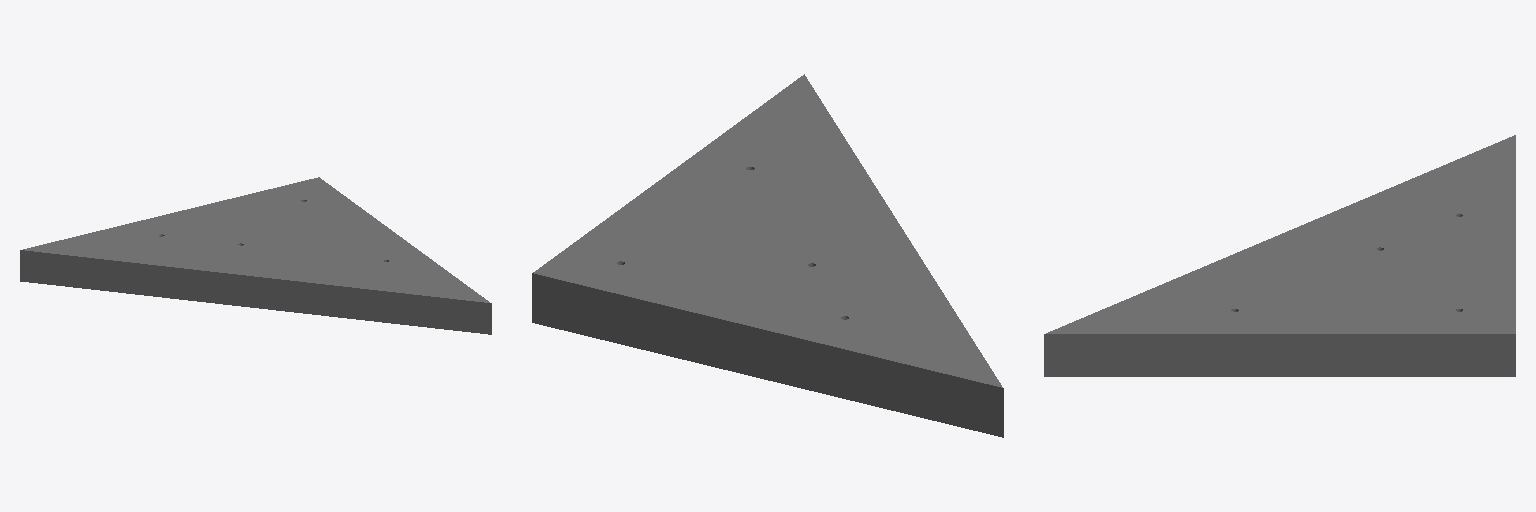
URDF robot description (push_object):
<?xml version="1.0" ?>
<robot name="push_object">
  <link name="link_x">
    <inertial>
      <mass value="0"/>
      <inertia ixx="1.0" ixy="0.0" ixz="0.0" iyy="1.0" iyz="0.0" izz="1.0"/>
    </inertial>
  </link>

  <link name="link_y">
    <inertial>
      <mass value="0"/>
      <inertia ixx="1.0" ixy="0.0" ixz="0.0" iyy="1.0" iyz="0.0" izz="1.0"/>
    </inertial>
  </link>
  
  <link name="link_z">
    <inertial>
      <mass value="0"/>
      <inertia ixx="1.0" ixy="0.0" ixz="0.0" iyy="1.0" iyz="0.0" izz="1.0"/>
    </inertial>
  </link>
  
  <link name="link_yaw">
    <inertial>
      <mass value="0"/>
      <inertia ixx="1.0" ixy="0.0" ixz="0.0" iyy="1.0" iyz="0.0" izz="1.0"/>
    </inertial>
  </link>

  <link name="link_object">
    <contact>
      <rolling_friction value="0.03"/>
      <spinning_friction value="0.03"/>
    </contact>

    <inertial>
      <origin rpy="0 0 0" xyz="0 0 0"/>
       <mass value="0.006350"/>
       <inertia ixx="1" ixy="0" ixz="0" iyy="1" iyz="0" izz="0.803000"/>
    </inertial>
    <visual>
      <origin rpy="0 0 0" xyz="0 0 0.001410"/>
      <geometry>
        <mesh filename="tri1.obj" scale="1.0 1.0 1.0"/>      
      </geometry>
      <material name="gray">
        <color rgba="0.5 0.5 0.5 1"/>
        <specular rgb="1 1 1"/>
      </material>
    </visual>
    
    <collision>
      <origin rpy="0 0 0" xyz="-0.0700 0.0400 -0.0063"/>
      <geometry>
        <sphere radius="0.0065"/>
      </geometry>
    </collision>
        
    <collision>
      <origin rpy="0 0 0" xyz="-0.0600 0.0300 -0.0063"/>
      <geometry>
        <sphere radius="0.0065"/>
      </geometry>
    </collision>
        
    <collision>
      <origin rpy="0 0 0" xyz="-0.0600 0.0400 -0.0063"/>
      <geometry>
        <sphere radius="0.0065"/>
      </geometry>
    </collision>
        
    <collision>
      <origin rpy="0 0 0" xyz="-0.0500 0.0200 -0.0063"/>
      <geometry>
        <sphere radius="0.0065"/>
      </geometry>
    </collision>
        
    <collision>
      <origin rpy="0 0 0" xyz="-0.0500 0.0300 -0.0063"/>
      <geometry>
        <sphere radius="0.0065"/>
      </geometry>
    </collision>
        
    <collision>
      <origin rpy="0 0 0" xyz="-0.0500 0.0400 -0.0063"/>
      <geometry>
        <sphere radius="0.0065"/>
      </geometry>
    </collision>
        
    <collision>
      <origin rpy="0 0 0" xyz="-0.0400 0.0100 -0.0063"/>
      <geometry>
        <sphere radius="0.0065"/>
      </geometry>
    </collision>
        
    <collision>
      <origin rpy="0 0 0" xyz="-0.0400 0.0200 -0.0063"/>
      <geometry>
        <sphere radius="0.0065"/>
      </geometry>
    </collision>
        
    <collision>
      <origin rpy="0 0 0" xyz="-0.0400 0.0300 -0.0063"/>
      <geometry>
        <sphere radius="0.0065"/>
      </geometry>
    </collision>
        
    <collision>
      <origin rpy="0 0 0" xyz="-0.0400 0.0400 -0.0063"/>
      <geometry>
        <sphere radius="0.0065"/>
      </geometry>
    </collision>
        
    <collision>
      <origin rpy="0 0 0" xyz="-0.0300 -0.0000 -0.0063"/>
      <geometry>
        <sphere radius="0.0065"/>
      </geometry>
    </collision>
        
    <collision>
      <origin rpy="0 0 0" xyz="-0.0300 0.0100 -0.0063"/>
      <geometry>
        <sphere radius="0.0065"/>
      </geometry>
    </collision>
        
    <collision>
      <origin rpy="0 0 0" xyz="-0.0300 0.0200 -0.0063"/>
      <geometry>
        <sphere radius="0.0065"/>
      </geometry>
    </collision>
        
    <collision>
      <origin rpy="0 0 0" xyz="-0.0300 0.0300 -0.0063"/>
      <geometry>
        <sphere radius="0.0065"/>
      </geometry>
    </collision>
        
    <collision>
      <origin rpy="0 0 0" xyz="-0.0300 0.0400 -0.0063"/>
      <geometry>
        <sphere radius="0.0065"/>
      </geometry>
    </collision>
        
    <collision>
      <origin rpy="0 0 0" xyz="-0.0200 -0.0100 -0.0063"/>
      <geometry>
        <sphere radius="0.0065"/>
      </geometry>
    </collision>
        
    <collision>
      <origin rpy="0 0 0" xyz="-0.0200 -0.0000 -0.0063"/>
      <geometry>
        <sphere radius="0.0065"/>
      </geometry>
    </collision>
        
    <collision>
      <origin rpy="0 0 0" xyz="-0.0200 0.0100 -0.0063"/>
      <geometry>
        <sphere radius="0.0065"/>
      </geometry>
    </collision>
        
    <collision>
      <origin rpy="0 0 0" xyz="-0.0200 0.0200 -0.0063"/>
      <geometry>
        <sphere radius="0.0065"/>
      </geometry>
    </collision>
        
    <collision>
      <origin rpy="0 0 0" xyz="-0.0200 0.0300 -0.0063"/>
      <geometry>
        <sphere radius="0.0065"/>
      </geometry>
    </collision>
        
    <collision>
      <origin rpy="0 0 0" xyz="-0.0200 0.0400 -0.0063"/>
      <geometry>
        <sphere radius="0.0065"/>
      </geometry>
    </collision>
        
    <collision>
      <origin rpy="0 0 0" xyz="-0.0100 -0.0200 -0.0063"/>
      <geometry>
        <sphere radius="0.0065"/>
      </geometry>
    </collision>
        
    <collision>
      <origin rpy="0 0 0" xyz="-0.0100 -0.0100 -0.0063"/>
      <geometry>
        <sphere radius="0.0065"/>
      </geometry>
    </collision>
        
    <collision>
      <origin rpy="0 0 0" xyz="-0.0100 -0.0000 -0.0063"/>
      <geometry>
        <sphere radius="0.0065"/>
      </geometry>
    </collision>
        
    <collision>
      <origin rpy="0 0 0" xyz="-0.0100 0.0100 -0.0063"/>
      <geometry>
        <sphere radius="0.0065"/>
      </geometry>
    </collision>
        
    <collision>
      <origin rpy="0 0 0" xyz="-0.0100 0.0200 -0.0063"/>
      <geometry>
        <sphere radius="0.0065"/>
      </geometry>
    </collision>
        
    <collision>
      <origin rpy="0 0 0" xyz="-0.0100 0.0300 -0.0063"/>
      <geometry>
        <sphere radius="0.0065"/>
      </geometry>
    </collision>
        
    <collision>
      <origin rpy="0 0 0" xyz="-0.0100 0.0400 -0.0063"/>
      <geometry>
        <sphere radius="0.0065"/>
      </geometry>
    </collision>
        
    <collision>
      <origin rpy="0 0 0" xyz="-0.0000 -0.0300 -0.0063"/>
      <geometry>
        <sphere radius="0.0065"/>
      </geometry>
    </collision>
        
    <collision>
      <origin rpy="0 0 0" xyz="-0.0000 -0.0200 -0.0063"/>
      <geometry>
        <sphere radius="0.0065"/>
      </geometry>
    </collision>
        
    <collision>
      <origin rpy="0 0 0" xyz="-0.0000 -0.0100 -0.0063"/>
      <geometry>
        <sphere radius="0.0065"/>
      </geometry>
    </collision>
        
    <collision>
      <origin rpy="0 0 0" xyz="-0.0000 -0.0000 -0.0063"/>
      <geometry>
        <sphere radius="0.0065"/>
      </geometry>
    </collision>
        
    <collision>
      <origin rpy="0 0 0" xyz="-0.0000 0.0100 -0.0063"/>
      <geometry>
        <sphere radius="0.0065"/>
      </geometry>
    </collision>
        
    <collision>
      <origin rpy="0 0 0" xyz="-0.0000 0.0200 -0.0063"/>
      <geometry>
        <sphere radius="0.0065"/>
      </geometry>
    </collision>
        
    <collision>
      <origin rpy="0 0 0" xyz="-0.0000 0.0300 -0.0063"/>
      <geometry>
        <sphere radius="0.0065"/>
      </geometry>
    </collision>
        
    <collision>
      <origin rpy="0 0 0" xyz="-0.0000 0.0400 -0.0063"/>
      <geometry>
        <sphere radius="0.0065"/>
      </geometry>
    </collision>
        
    <collision>
      <origin rpy="0 0 0" xyz="0.0100 -0.0400 -0.0063"/>
      <geometry>
        <sphere radius="0.0065"/>
      </geometry>
    </collision>
        
    <collision>
      <origin rpy="0 0 0" xyz="0.0100 -0.0300 -0.0063"/>
      <geometry>
        <sphere radius="0.0065"/>
      </geometry>
    </collision>
        
    <collision>
      <origin rpy="0 0 0" xyz="0.0100 -0.0200 -0.0063"/>
      <geometry>
        <sphere radius="0.0065"/>
      </geometry>
    </collision>
        
    <collision>
      <origin rpy="0 0 0" xyz="0.0100 -0.0100 -0.0063"/>
      <geometry>
        <sphere radius="0.0065"/>
      </geometry>
    </collision>
        
    <collision>
      <origin rpy="0 0 0" xyz="0.0100 -0.0000 -0.0063"/>
      <geometry>
        <sphere radius="0.0065"/>
      </geometry>
    </collision>
        
    <collision>
      <origin rpy="0 0 0" xyz="0.0100 0.0100 -0.0063"/>
      <geometry>
        <sphere radius="0.0065"/>
      </geometry>
    </collision>
        
    <collision>
      <origin rpy="0 0 0" xyz="0.0100 0.0200 -0.0063"/>
      <geometry>
        <sphere radius="0.0065"/>
      </geometry>
    </collision>
        
    <collision>
      <origin rpy="0 0 0" xyz="0.0100 0.0300 -0.0063"/>
      <geometry>
        <sphere radius="0.0065"/>
      </geometry>
    </collision>
        
    <collision>
      <origin rpy="0 0 0" xyz="0.0100 0.0400 -0.0063"/>
      <geometry>
        <sphere radius="0.0065"/>
      </geometry>
    </collision>
        
    <collision>
      <origin rpy="0 0 0" xyz="0.0200 -0.0500 -0.0063"/>
      <geometry>
        <sphere radius="0.0065"/>
      </geometry>
    </collision>
        
    <collision>
      <origin rpy="0 0 0" xyz="0.0200 -0.0400 -0.0063"/>
      <geometry>
        <sphere radius="0.0065"/>
      </geometry>
    </collision>
        
    <collision>
      <origin rpy="0 0 0" xyz="0.0200 -0.0300 -0.0063"/>
      <geometry>
        <sphere radius="0.0065"/>
      </geometry>
    </collision>
        
    <collision>
      <origin rpy="0 0 0" xyz="0.0200 -0.0200 -0.0063"/>
      <geometry>
        <sphere radius="0.0065"/>
      </geometry>
    </collision>
        
    <collision>
      <origin rpy="0 0 0" xyz="0.0200 -0.0100 -0.0063"/>
      <geometry>
        <sphere radius="0.0065"/>
      </geometry>
    </collision>
        
    <collision>
      <origin rpy="0 0 0" xyz="0.0200 -0.0000 -0.0063"/>
      <geometry>
        <sphere radius="0.0065"/>
      </geometry>
    </collision>
        
    <collision>
      <origin rpy="0 0 0" xyz="0.0200 0.0100 -0.0063"/>
      <geometry>
        <sphere radius="0.0065"/>
      </geometry>
    </collision>
        
    <collision>
      <origin rpy="0 0 0" xyz="0.0200 0.0200 -0.0063"/>
      <geometry>
        <sphere radius="0.0065"/>
      </geometry>
    </collision>
        
    <collision>
      <origin rpy="0 0 0" xyz="0.0200 0.0300 -0.0063"/>
      <geometry>
        <sphere radius="0.0065"/>
      </geometry>
    </collision>
        
    <collision>
      <origin rpy="0 0 0" xyz="0.0200 0.0400 -0.0063"/>
      <geometry>
        <sphere radius="0.0065"/>
      </geometry>
    </collision>
        
    <collision>
      <origin rpy="0 0 0" xyz="0.0300 -0.0600 -0.0063"/>
      <geometry>
        <sphere radius="0.0065"/>
      </geometry>
    </collision>
        
    <collision>
      <origin rpy="0 0 0" xyz="0.0300 -0.0500 -0.0063"/>
      <geometry>
        <sphere radius="0.0065"/>
      </geometry>
    </collision>
        
    <collision>
      <origin rpy="0 0 0" xyz="0.0300 -0.0400 -0.0063"/>
      <geometry>
        <sphere radius="0.0065"/>
      </geometry>
    </collision>
        
    <collision>
      <origin rpy="0 0 0" xyz="0.0300 -0.0300 -0.0063"/>
      <geometry>
        <sphere radius="0.0065"/>
      </geometry>
    </collision>
        
    <collision>
      <origin rpy="0 0 0" xyz="0.0300 -0.0200 -0.0063"/>
      <geometry>
        <sphere radius="0.0065"/>
      </geometry>
    </collision>
        
    <collision>
      <origin rpy="0 0 0" xyz="0.0300 -0.0100 -0.0063"/>
      <geometry>
        <sphere radius="0.0065"/>
      </geometry>
    </collision>
        
    <collision>
      <origin rpy="0 0 0" xyz="0.0300 -0.0000 -0.0063"/>
      <geometry>
        <sphere radius="0.0065"/>
      </geometry>
    </collision>
        
    <collision>
      <origin rpy="0 0 0" xyz="0.0300 0.0100 -0.0063"/>
      <geometry>
        <sphere radius="0.0065"/>
      </geometry>
    </collision>
        
    <collision>
      <origin rpy="0 0 0" xyz="0.0300 0.0200 -0.0063"/>
      <geometry>
        <sphere radius="0.0065"/>
      </geometry>
    </collision>
        
    <collision>
      <origin rpy="0 0 0" xyz="0.0300 0.0300 -0.0063"/>
      <geometry>
        <sphere radius="0.0065"/>
      </geometry>
    </collision>
        
    <collision>
      <origin rpy="0 0 0" xyz="0.0300 0.0400 -0.0063"/>
      <geometry>
        <sphere radius="0.0065"/>
      </geometry>
    </collision>
        
    <collision>
      <origin rpy="0 0 0" xyz="0.0400 -0.0700 -0.0063"/>
      <geometry>
        <sphere radius="0.0065"/>
      </geometry>
    </collision>
        
    <collision>
      <origin rpy="0 0 0" xyz="0.0400 -0.0600 -0.0063"/>
      <geometry>
        <sphere radius="0.0065"/>
      </geometry>
    </collision>
        
    <collision>
      <origin rpy="0 0 0" xyz="0.0400 -0.0500 -0.0063"/>
      <geometry>
        <sphere radius="0.0065"/>
      </geometry>
    </collision>
        
    <collision>
      <origin rpy="0 0 0" xyz="0.0400 -0.0400 -0.0063"/>
      <geometry>
        <sphere radius="0.0065"/>
      </geometry>
    </collision>
        
    <collision>
      <origin rpy="0 0 0" xyz="0.0400 -0.0300 -0.0063"/>
      <geometry>
        <sphere radius="0.0065"/>
      </geometry>
    </collision>
        
    <collision>
      <origin rpy="0 0 0" xyz="0.0400 -0.0200 -0.0063"/>
      <geometry>
        <sphere radius="0.0065"/>
      </geometry>
    </collision>
        
    <collision>
      <origin rpy="0 0 0" xyz="0.0400 -0.0100 -0.0063"/>
      <geometry>
        <sphere radius="0.0065"/>
      </geometry>
    </collision>
        
    <collision>
      <origin rpy="0 0 0" xyz="0.0400 -0.0000 -0.0063"/>
      <geometry>
        <sphere radius="0.0065"/>
      </geometry>
    </collision>
        
    <collision>
      <origin rpy="0 0 0" xyz="0.0400 0.0100 -0.0063"/>
      <geometry>
        <sphere radius="0.0065"/>
      </geometry>
    </collision>
        
    <collision>
      <origin rpy="0 0 0" xyz="0.0400 0.0200 -0.0063"/>
      <geometry>
        <sphere radius="0.0065"/>
      </geometry>
    </collision>
        
    <collision>
      <origin rpy="0 0 0" xyz="0.0400 0.0300 -0.0063"/>
      <geometry>
        <sphere radius="0.0065"/>
      </geometry>
    </collision>
        
    <collision>
      <origin rpy="0 0 0" xyz="0.0400 0.0400 -0.0063"/>
      <geometry>
        <sphere radius="0.0065"/>
      </geometry>
    </collision>
        
  </link>
  
  <joint name="joint_x" type="prismatic">
    <axis xyz="1 0 0"/>
    <origin xyz="0.0 0.0 0"/>
    <parent link="link_x"/>
    <child link="link_y"/>
    <limit effort="1000.0" lower="-15" upper="15" velocity="5"/>
  </joint>

  <joint name="joint_y" type="prismatic">
    <axis xyz="0 1 0"/>
    <origin xyz="0.0 0.0 0"/>
    <parent link="link_y"/>
    <child link="link_z"/>
    <limit effort="1000.0" lower="-15" upper="15" velocity="5"/>
  </joint>

  <joint name="joint_z" type="prismatic">
    <axis xyz="0 0 1"/>
    <origin xyz="0.0 0.0 0"/>
    <parent link="link_z"/>
    <child link="link_yaw"/>
    <limit effort="1000.0" lower="-15" upper="15" velocity="5"/>
  </joint>

  <joint name="joint_yaw" type="continuous">
    <axis xyz="0 0 1"/>
    <origin xyz="0.0 0.0 0"/>
    <parent link="link_yaw"/>
    <child link="link_object"/>
  </joint>
</robot>

--- Render facts (derived) ---
The picture shows the robot from 3 angles, left to right: view 1: azimuth 30°, elevation 25°; view 2: azimuth 150°, elevation 25°; view 3: azimuth 270°, elevation 25°; orthographic projection.
Model push_object with 5 links and 4 joints (1 continuous, 3 prismatic), rooted at link_x, posed every joint at zero.
Visible links, largest first — view 1: link_object; view 2: link_object; view 3: link_object.
Link boxes in pixels (box(x1,y1,x2,y2)): link_object: box(20, 177, 491, 334); link_object: box(532, 74, 1003, 437); link_object: box(1044, 135, 1515, 376).
Bounding box of the posed robot: 0.126 × 0.126 × 0.0127 m (x, y, z).
1 mesh visuals loaded from 1 distinct referenced files (1 OBJ).